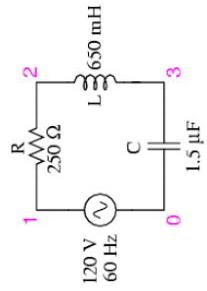inductor: (65, 64, 122, 94)
